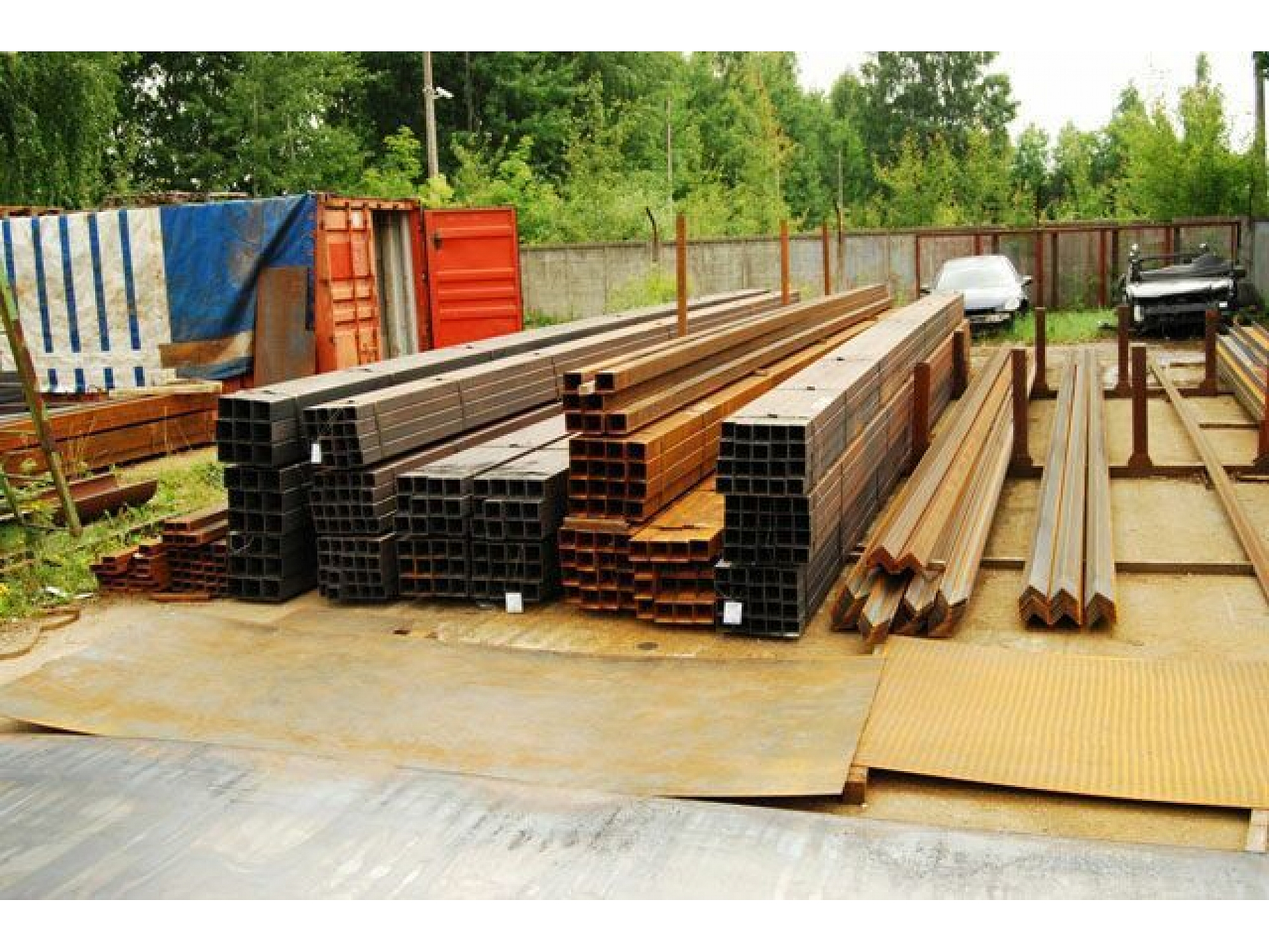truba: (245, 534, 264, 555), (229, 555, 248, 576), (232, 400, 251, 420), (249, 401, 268, 421), (215, 420, 234, 440), (233, 422, 252, 442), (252, 422, 271, 442), (252, 444, 271, 464), (240, 469, 259, 489), (260, 469, 279, 489), (226, 488, 245, 508), (263, 491, 282, 511), (245, 512, 264, 532), (264, 513, 283, 533), (264, 535, 283, 555), (245, 558, 264, 578), (264, 558, 283, 578), (226, 579, 245, 599), (223, 467, 241, 488), (216, 398, 234, 419), (216, 441, 234, 461), (234, 443, 252, 463), (245, 491, 263, 511), (227, 511, 245, 531), (228, 534, 246, 554), (245, 578, 263, 598), (262, 579, 280, 599), (409, 516, 426, 534), (768, 460, 785, 478), (426, 480, 443, 497), (426, 499, 443, 516), (443, 499, 460, 516), (392, 516, 409, 533), (412, 539, 429, 556), (430, 558, 447, 575), (524, 563, 541, 580), (471, 479, 488, 496), (587, 439, 604, 456), (607, 502, 624, 519), (625, 502, 642, 519), (576, 532, 593, 549), (628, 542, 645, 559), (562, 588, 579, 605), (569, 501, 586, 518), (649, 543, 666, 560), (670, 544, 687, 561), (635, 581, 652, 598), (656, 582, 673, 599), (695, 581, 712, 598), (751, 444, 768, 461), (786, 462, 803, 479), (786, 478, 803, 495), (792, 514, 809, 531), (712, 568, 729, 585), (740, 547, 757, 564), (757, 547, 774, 564), (723, 495, 740, 512), (730, 586, 747, 603), (747, 602, 764, 619), (764, 603, 781, 620), (782, 620, 799, 637), (398, 558, 414, 576), (526, 481, 542, 499), (504, 502, 520, 520), (471, 579, 487, 597), (577, 551, 593, 569), (637, 600, 653, 618), (733, 460, 749, 478), (757, 495, 773, 513), (763, 586, 779, 604), (412, 478, 428, 495), (444, 481, 460, 498), (394, 497, 410, 514), (410, 498, 426, 515), (427, 517, 443, 534), (445, 518, 461, 535), (397, 539, 413, 556), (431, 540, 447, 557), (448, 539, 464, 556), (415, 559, 431, 576), (449, 560, 465, 577), (399, 577, 415, 594), (416, 577, 432, 594), (433, 578, 449, 595), (449, 579, 465, 596), (508, 481, 524, 498), (490, 480, 506, 497), (396, 477, 412, 494), (468, 500, 484, 517), (485, 502, 501, 519), (522, 503, 538, 520), (470, 520, 486, 537), (487, 521, 503, 538), (506, 520, 522, 537), (524, 521, 540, 538), (471, 542, 487, 559), (487, 543, 503, 560), (506, 543, 522, 560), (523, 544, 539, 561), (471, 561, 487, 578), (489, 562, 505, 579), (507, 562, 523, 579), (490, 580, 506, 597), (507, 581, 523, 598), (523, 583, 539, 600), (596, 375, 612, 392), (563, 394, 579, 411), (586, 393, 602, 410), (566, 414, 582, 431), (585, 413, 601, 430), (609, 415, 625, 432), (570, 440, 586, 457), (605, 441, 621, 458), (627, 443, 643, 460), (571, 460, 587, 477), (590, 461, 606, 478), (607, 463, 623, 480), (628, 463, 644, 480), (570, 480, 586, 497), (589, 480, 605, 497), (607, 482, 623, 499), (627, 483, 643, 500), (558, 529, 574, 546), (589, 500, 605, 517), (564, 374, 580, 391), (596, 533, 612, 550), (559, 549, 575, 566), (596, 552, 612, 569), (614, 554, 630, 571), (561, 569, 577, 586), (580, 571, 596, 588), (598, 570, 614, 587), (616, 571, 632, 588), (581, 590, 597, 607), (600, 591, 616, 608), (618, 591, 634, 608), (692, 542, 708, 559), (634, 562, 650, 579), (653, 562, 669, 579), (672, 560, 688, 577), (691, 561, 707, 578), (677, 581, 693, 598), (655, 603, 671, 620), (675, 604, 691, 621), (695, 604, 711, 621), (735, 424, 751, 441), (613, 534, 629, 551), (752, 426, 768, 443), (770, 426, 786, 443), (788, 424, 804, 441), (717, 440, 733, 457), (733, 442, 749, 459), (770, 443, 786, 460), (789, 443, 805, 460), (716, 458, 732, 475), (750, 460, 766, 477), (715, 476, 731, 493), (732, 478, 748, 495), (752, 478, 768, 495), (769, 478, 785, 495), (740, 495, 756, 512), (719, 422, 735, 439), (773, 498, 789, 515), (791, 497, 807, 514), (722, 511, 738, 528), (738, 513, 754, 530), (757, 513, 773, 530), (773, 514, 789, 531), (723, 529, 739, 546), (739, 529, 755, 546), (756, 529, 772, 546), (773, 530, 789, 547), (792, 530, 808, 547), (775, 546, 791, 563), (792, 548, 808, 565), (729, 569, 745, 586), (747, 568, 763, 585), (762, 569, 778, 586), (779, 569, 795, 586), (714, 583, 730, 600), (746, 585, 762, 602), (780, 587, 796, 604), (782, 605, 798, 622), (750, 618, 766, 635), (766, 619, 782, 636), (721, 548, 737, 565), (329, 408, 342, 422), (343, 422, 356, 436), (332, 439, 345, 453), (314, 519, 327, 533), (354, 555, 367, 569), (356, 585, 369, 599), (342, 408, 355, 421), (346, 438, 359, 451), (321, 453, 334, 466), (311, 474, 324, 487), (361, 489, 374, 502), (354, 539, 367, 552), (367, 540, 380, 553), (367, 557, 380, 570), (368, 571, 381, 584), (317, 408, 329, 422), (318, 422, 330, 436), (307, 437, 319, 451), (320, 438, 332, 452), (335, 453, 347, 467), (348, 450, 360, 464), (325, 473, 337, 487), (363, 474, 375, 488), (337, 488, 349, 502), (312, 503, 324, 517), (350, 503, 362, 517), (327, 518, 339, 532), (367, 518, 379, 532), (304, 408, 316, 422), (318, 553, 330, 567), (331, 553, 343, 567), (317, 569, 329, 583), (342, 569, 354, 583), (355, 570, 367, 584), (328, 587, 340, 601), (344, 584, 356, 598), (330, 537, 342, 551), (305, 423, 317, 436), (332, 424, 344, 437), (337, 473, 349, 486), (350, 474, 362, 487), (310, 489, 322, 502), (325, 490, 337, 503), (348, 488, 360, 501), (325, 506, 337, 519), (337, 505, 349, 518), (362, 503, 374, 516), (339, 519, 351, 532), (353, 518, 365, 531), (318, 538, 330, 551), (342, 538, 354, 551), (342, 555, 354, 568), (330, 570, 342, 583), (318, 583, 330, 596), (370, 586, 382, 599)
